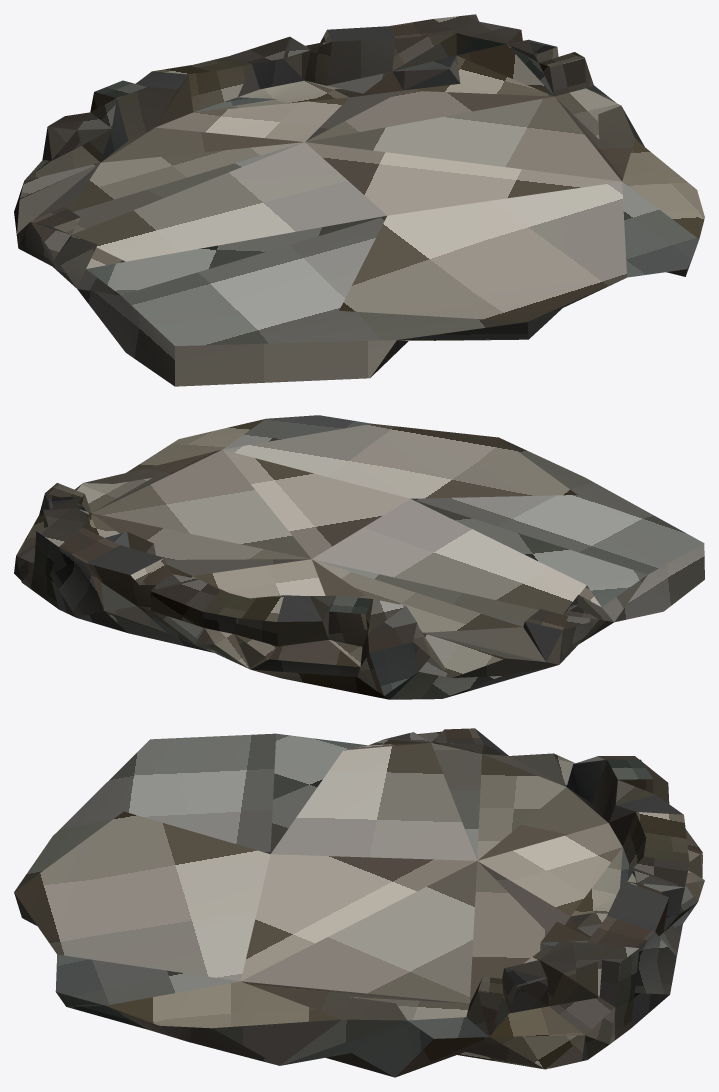
File: beach-shelf.collision.glb
3 views of the same model, one above another, from view 1: azimuth 30°, elevation 25°; view 2: azimuth 150°, elevation 25°; view 3: azimuth 270°, elevation 25° (orthographic). The views are drawn at different scales.
Visible parts, largest first — view 1: output_unwrapped; view 2: output_unwrapped; view 3: output_unwrapped.
Boxes of the visible parts, left/top/right/bottom form: output_unwrapped: left=14, top=14, right=704, bottom=386; output_unwrapped: left=14, top=415, right=704, bottom=699; output_unwrapped: left=14, top=728, right=704, bottom=1077.
Size of the model in its own units: 1.89 by 0.3009 by 1.81.
1 material, 1 textured.
